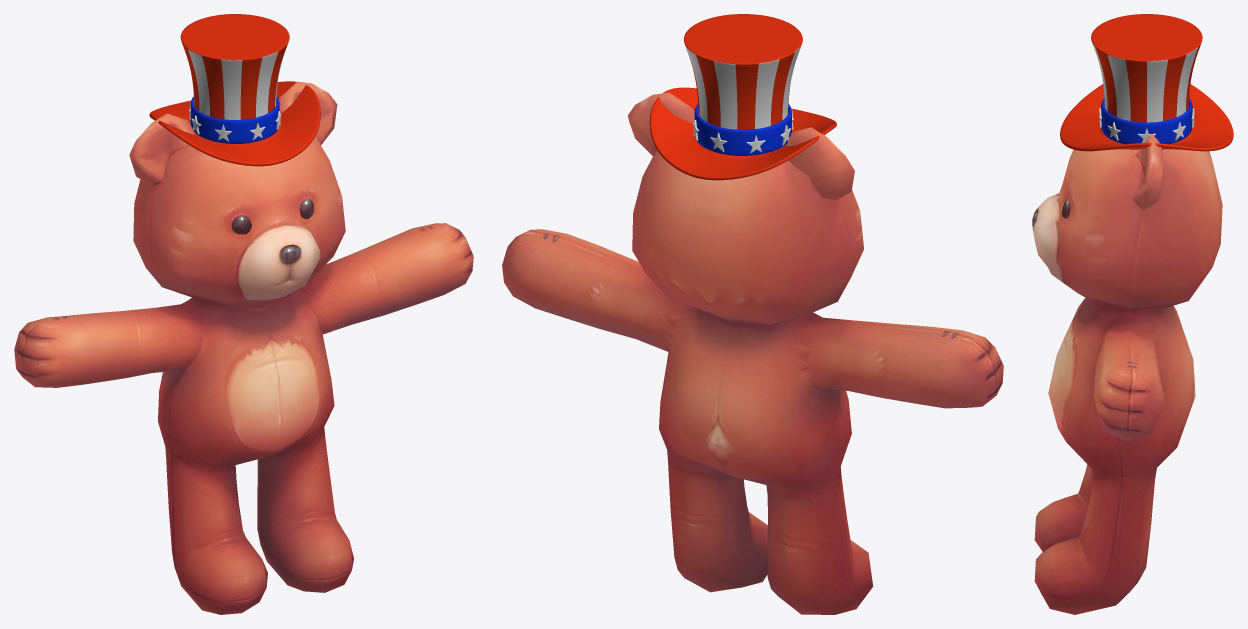
File: OsitoGringo.glb
The picture shows the model from 3 angles, left to right: view 1: azimuth 30°, elevation 25°; view 2: azimuth 150°, elevation 25°; view 3: azimuth 270°, elevation 25°; orthographic projection. The views are drawn at different scales.
Parts seen in each view (by area): view 1: Osito, EUA; view 2: Osito, EUA; view 3: Osito, EUA.
Boxes of the visible parts, bbox=[...] form: Osito: bbox=[14, 81, 473, 614]; EUA: bbox=[149, 14, 320, 166]; Osito: bbox=[502, 92, 1003, 614]; EUA: bbox=[649, 14, 836, 180]; Osito: bbox=[1032, 134, 1222, 614]; EUA: bbox=[1060, 14, 1233, 151].
Bounding box in the file's own units: 2.11 × 2.44 × 0.8115.
4 materials, 1 textured.
